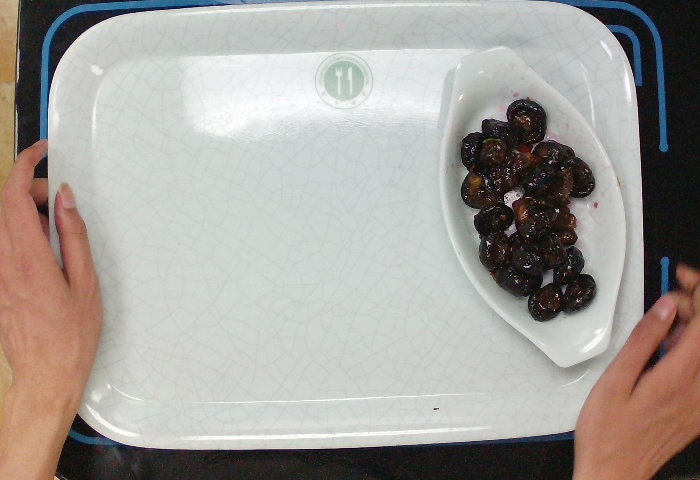JYsf-Yu_Pan: (432, 42, 631, 373)
